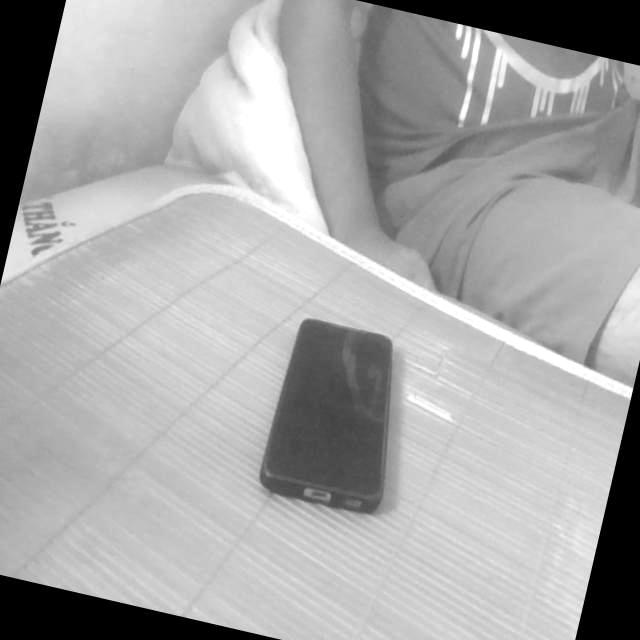phone: (236, 288, 440, 544)
